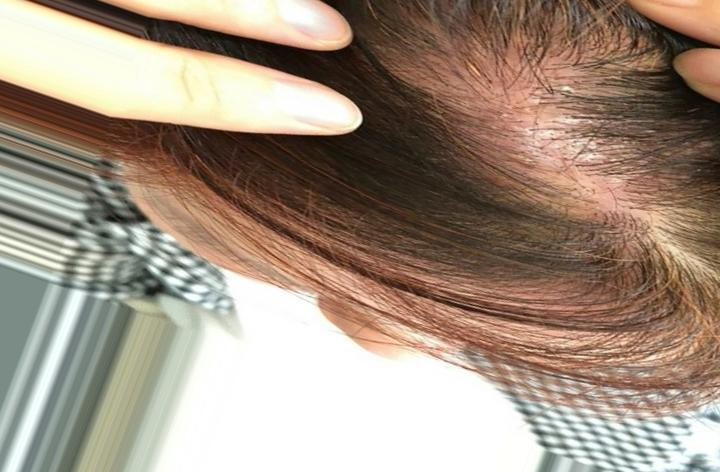Contact Dermatitis: (425, 8, 628, 239)
